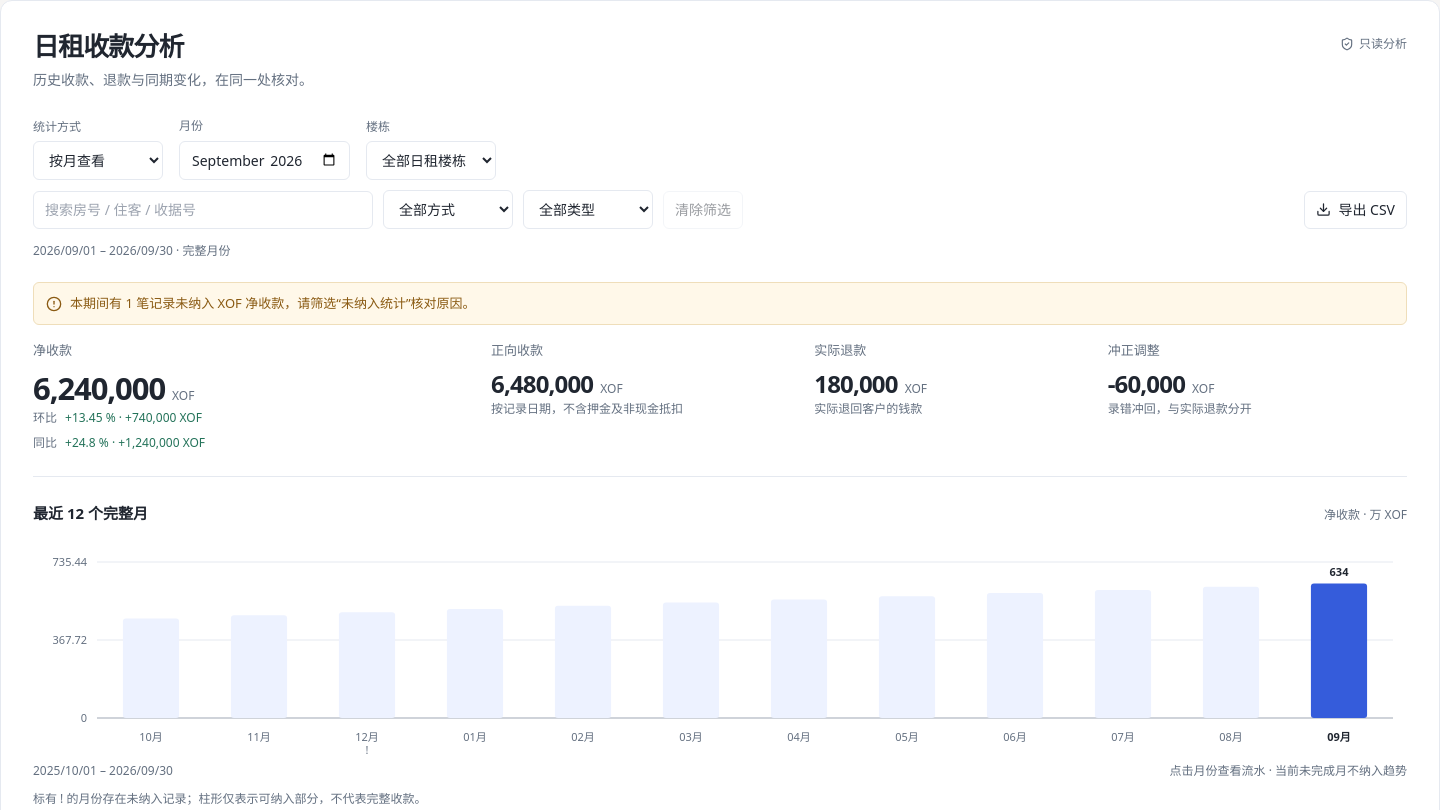
Test: daily receipt history UI › resets page and keeps filter controls usable when a filtered read fails
Select "现金" in the dropdown named "收款方式" at [448, 210], box [383,190,513,229]
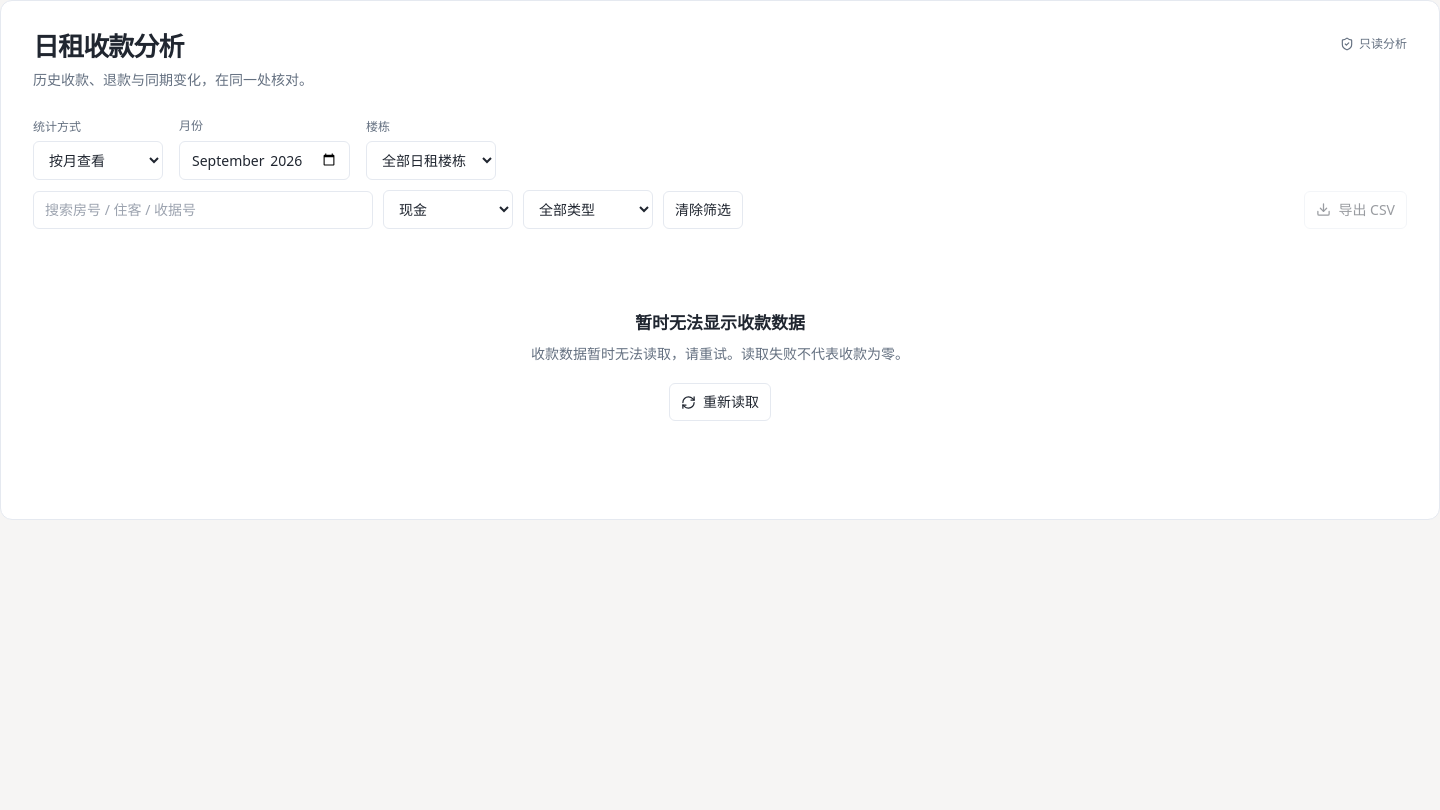
Expected: the text "读取失败不代表收款为零" is shown, [531,344,909,363]
Expected: the text "6,240,000" is gone
